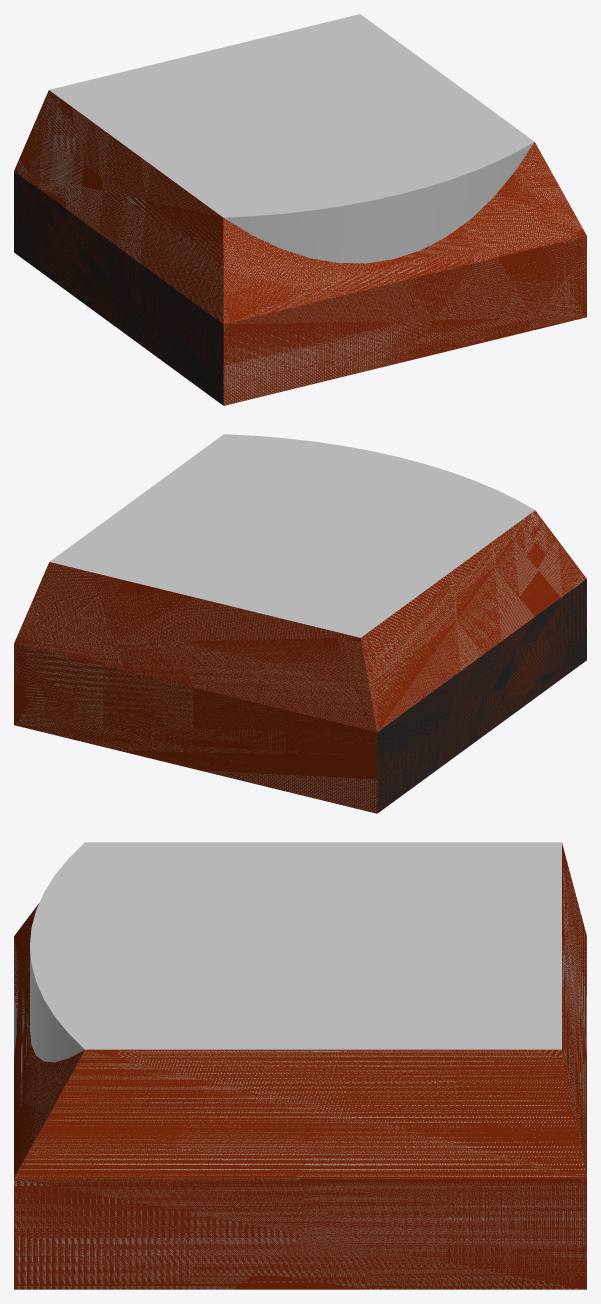
The model's file is original-32.obj.
The picture shows the model from 3 angles, top to bottom: view 1: azimuth 30°, elevation 25°; view 2: azimuth 150°, elevation 25°; view 3: azimuth 270°, elevation 25°; orthographic projection. The views are drawn at different scales.
Parts seen in each view (by area): view 1: mesh16/mesh16-geometry#mesh16-geometry; view 2: mesh16/mesh16-geometry#mesh16-geometry; view 3: mesh16/mesh16-geometry#mesh16-geometry.
Part boxes in pixels (left/top/right/bottom): mesh16/mesh16-geometry#mesh16-geometry: left=14, top=14, right=586, bottom=405; mesh16/mesh16-geometry#mesh16-geometry: left=14, top=434, right=586, bottom=813; mesh16/mesh16-geometry#mesh16-geometry: left=14, top=842, right=586, bottom=1289.
Bounding box in the file's own units: 0.1221 × 0.0523 × 0.1221.
